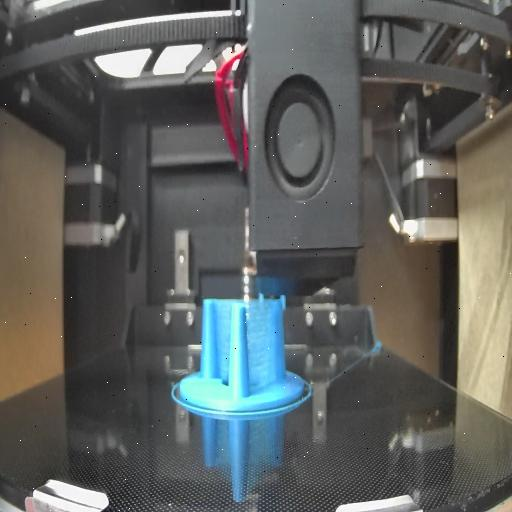stringing: (248, 300, 278, 395), (214, 302, 230, 392)
